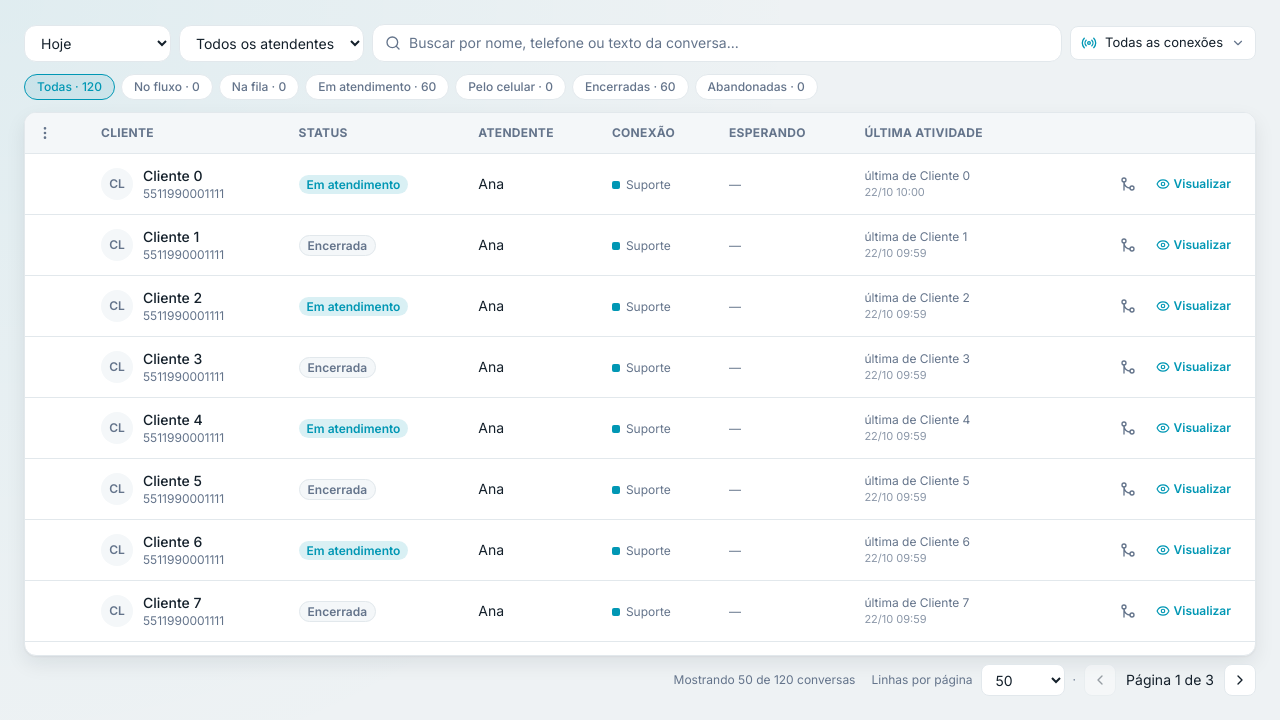
Gestão: linhas por página e páginas › o filtro de status vai para o servidor e o número de cada filtro cobre a busca toda
This screenshot has width=1280, height=720.
Step 1. Click the button "Em atendimento · 60" → (377, 87), box [305,74,449,100]
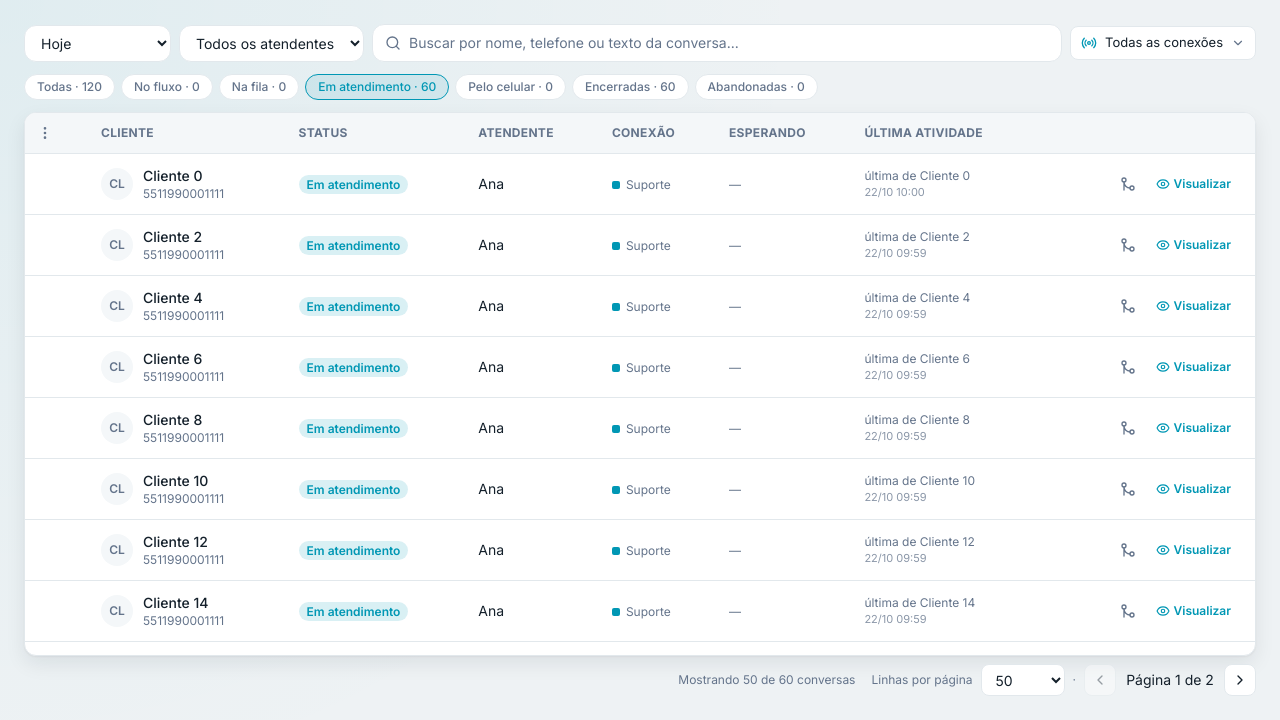
Check: the text "Mostrando 50 de 60 conversas" is shown, box [678,672,856,688]
